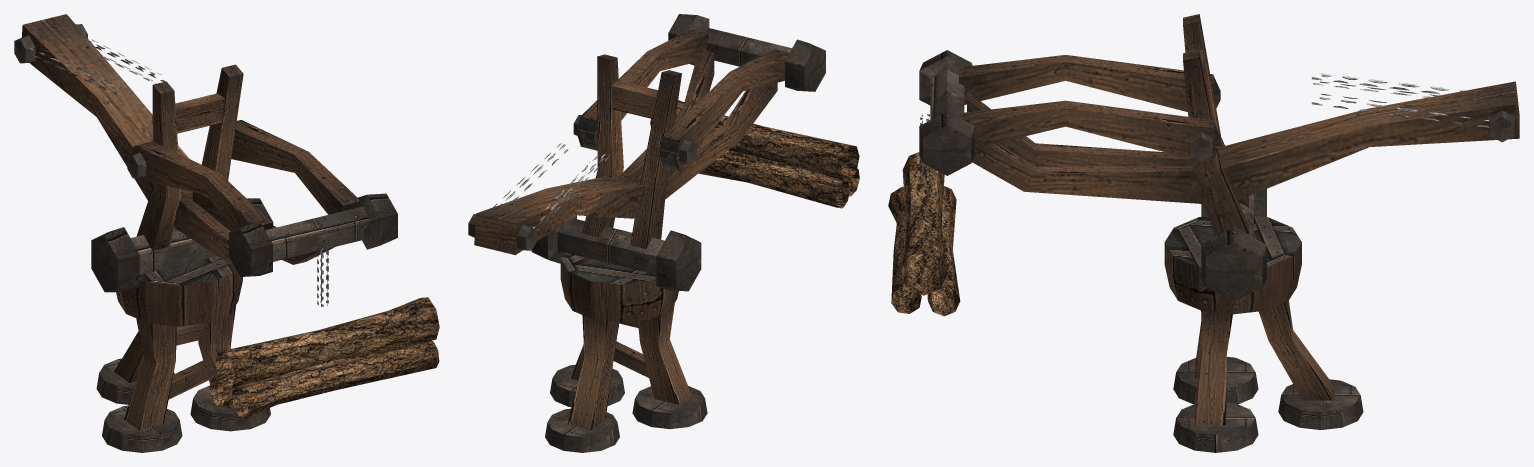
Rendered from gruzilka.fbx.
The picture shows the model from 3 angles, left to right: view 1: azimuth 30°, elevation 25°; view 2: azimuth 150°, elevation 25°; view 3: azimuth 270°, elevation 25°; orthographic projection. The views are drawn at different scales.
Parts seen in each view (by area): view 1: gruzilka; view 2: gruzilka; view 3: gruzilka.
Boxes of the visible parts, x1=… form: gruzilka: x1=14, y1=14, x2=439, y2=452; gruzilka: x1=468, y1=14, x2=859, y2=452; gruzilka: x1=888, y1=14, x2=1519, y2=452.
Size of the model in its own units: 10.47 by 17.53 by 26.64.
